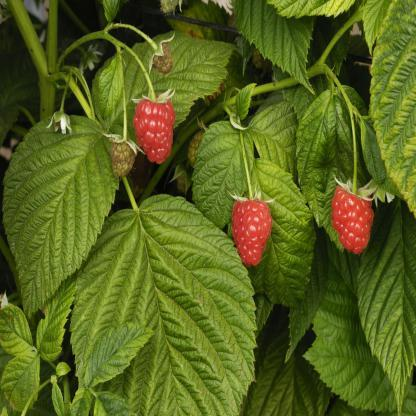Raspberry leaf: (70, 186, 256, 416)
